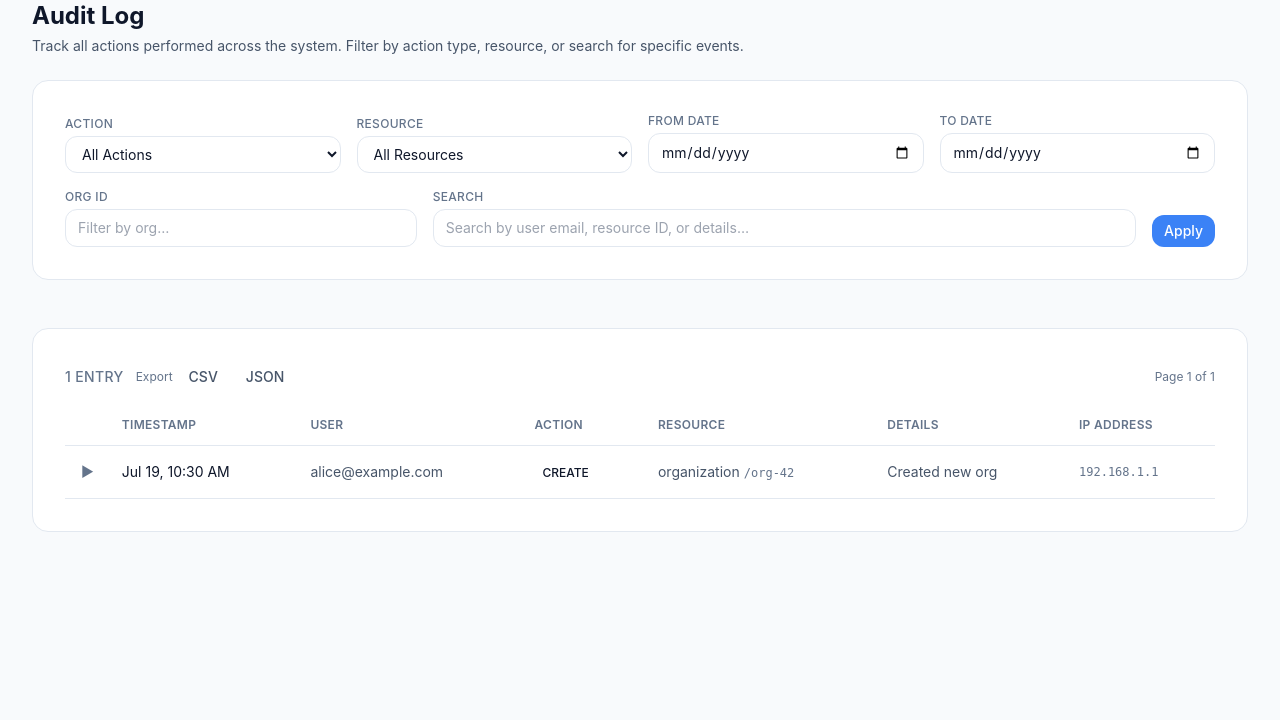
Scenario: AuditLogViewer › expands row details on click
This screenshot has width=1280, height=720.
Click the button named "Expand details for alice" at (87, 472), box [77,458,98,486]
(page scrolled)
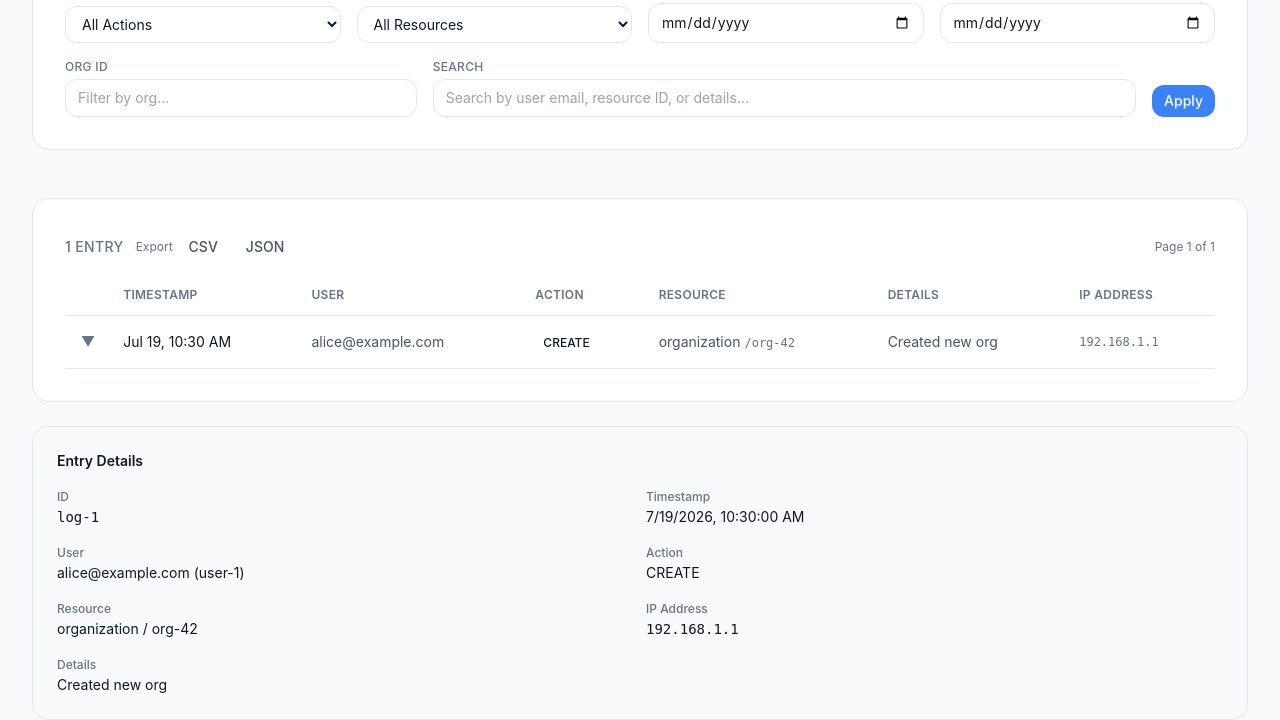
Expected: the text "Created new org" is shown, [57,676,167,693]
Expected: the text "192.168.1.1" is shown, [646,621,739,637]
